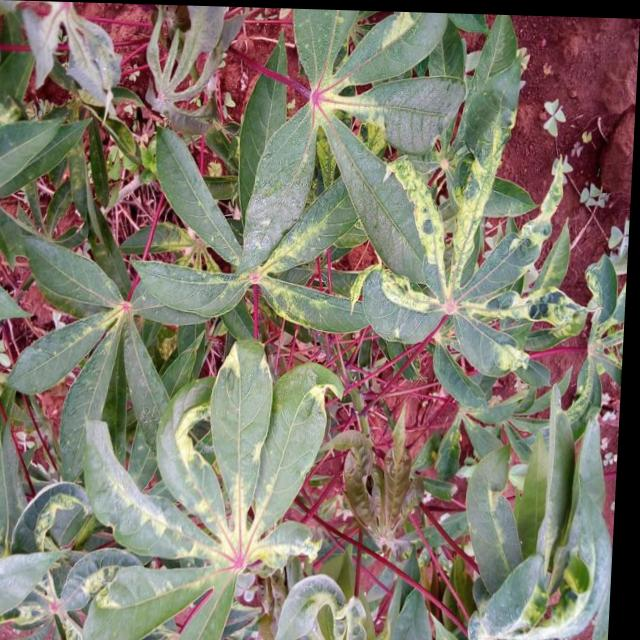Mosaico: (54, 358, 334, 611), (396, 134, 594, 368), (475, 456, 640, 640), (200, 163, 374, 315), (1, 465, 162, 624), (0, 0, 137, 116), (318, 58, 413, 198), (259, 563, 413, 640)
